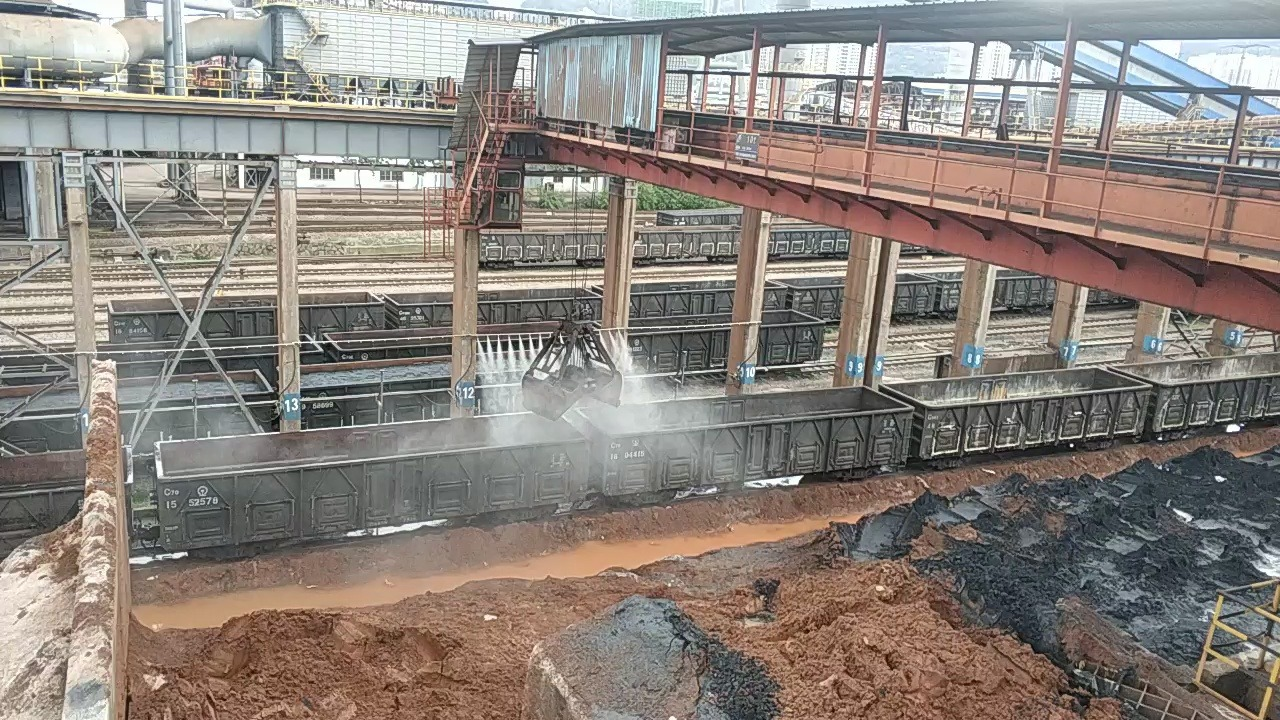dust: (109, 356, 759, 598)
grab: (516, 304, 628, 423)
